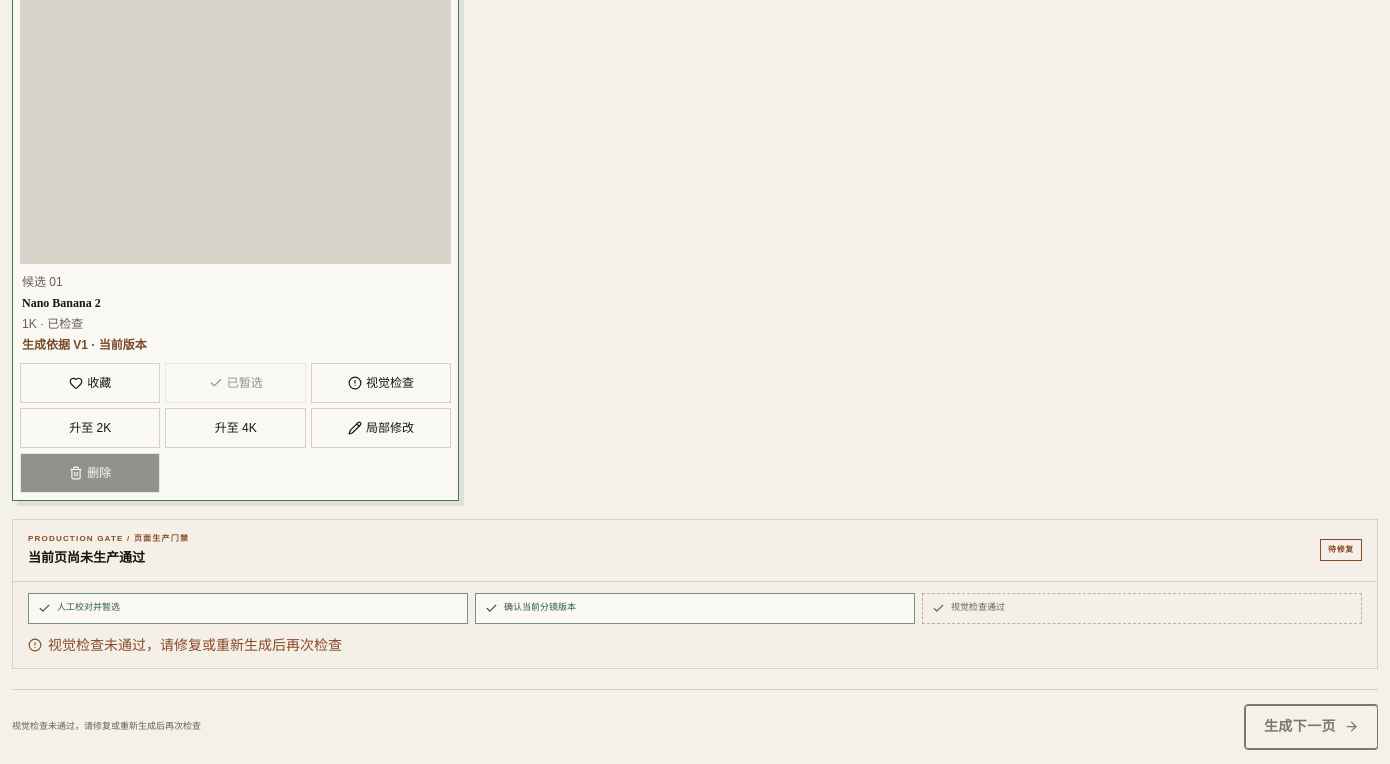
Test: GenerateSection 关键行为 › F24 检查已通过但门禁要求复查时，文案解释输入已更新而不是检查失败
(page scrolled)
Step 1. Click the button "视觉检查" → (381, 383), box [311,363,451,403]
(page scrolled)
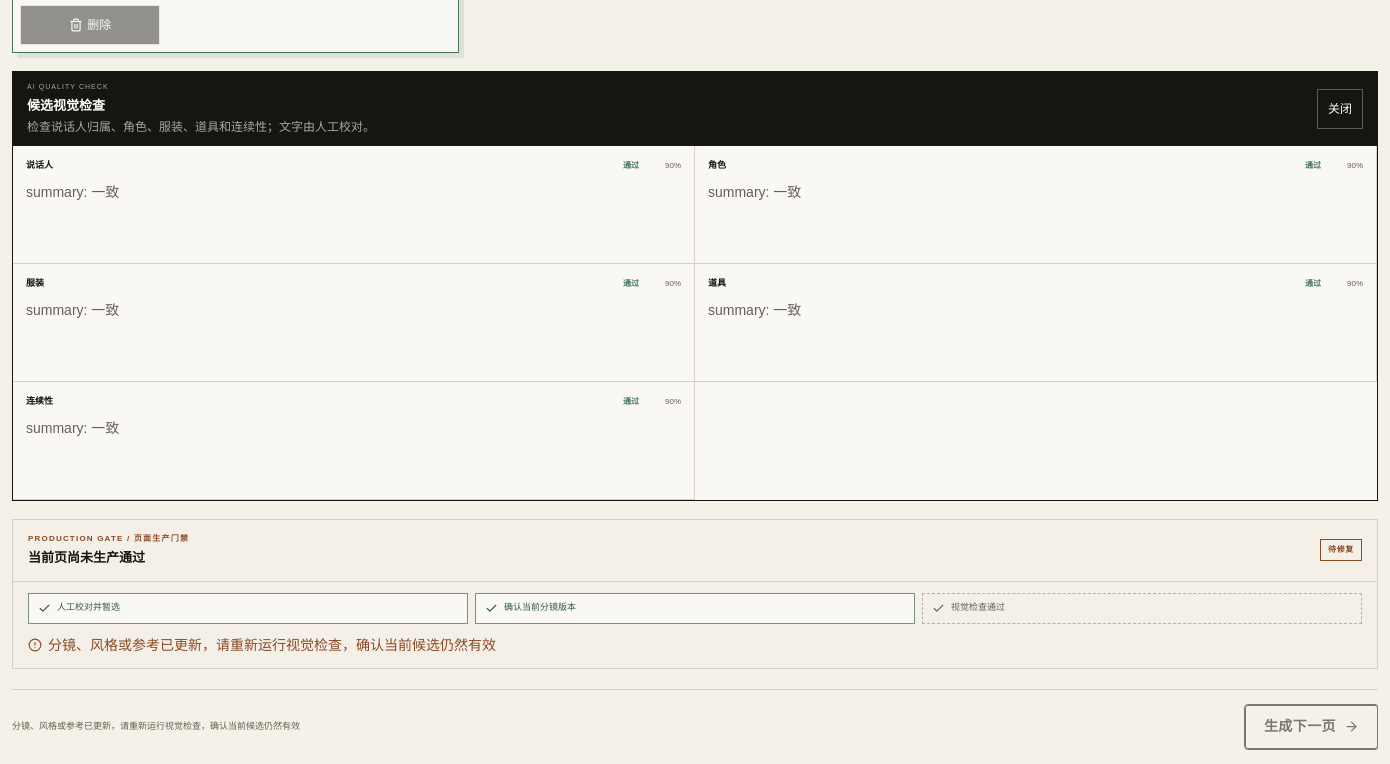
Check: the text "分镜、风格或参考已更新，请重新运行视觉检查，确认当前候选仍然有效" is shown, box [28,637,496,653]
Check: the text "视觉检查未通过，请修复或重新生成后再次检查" is gone
